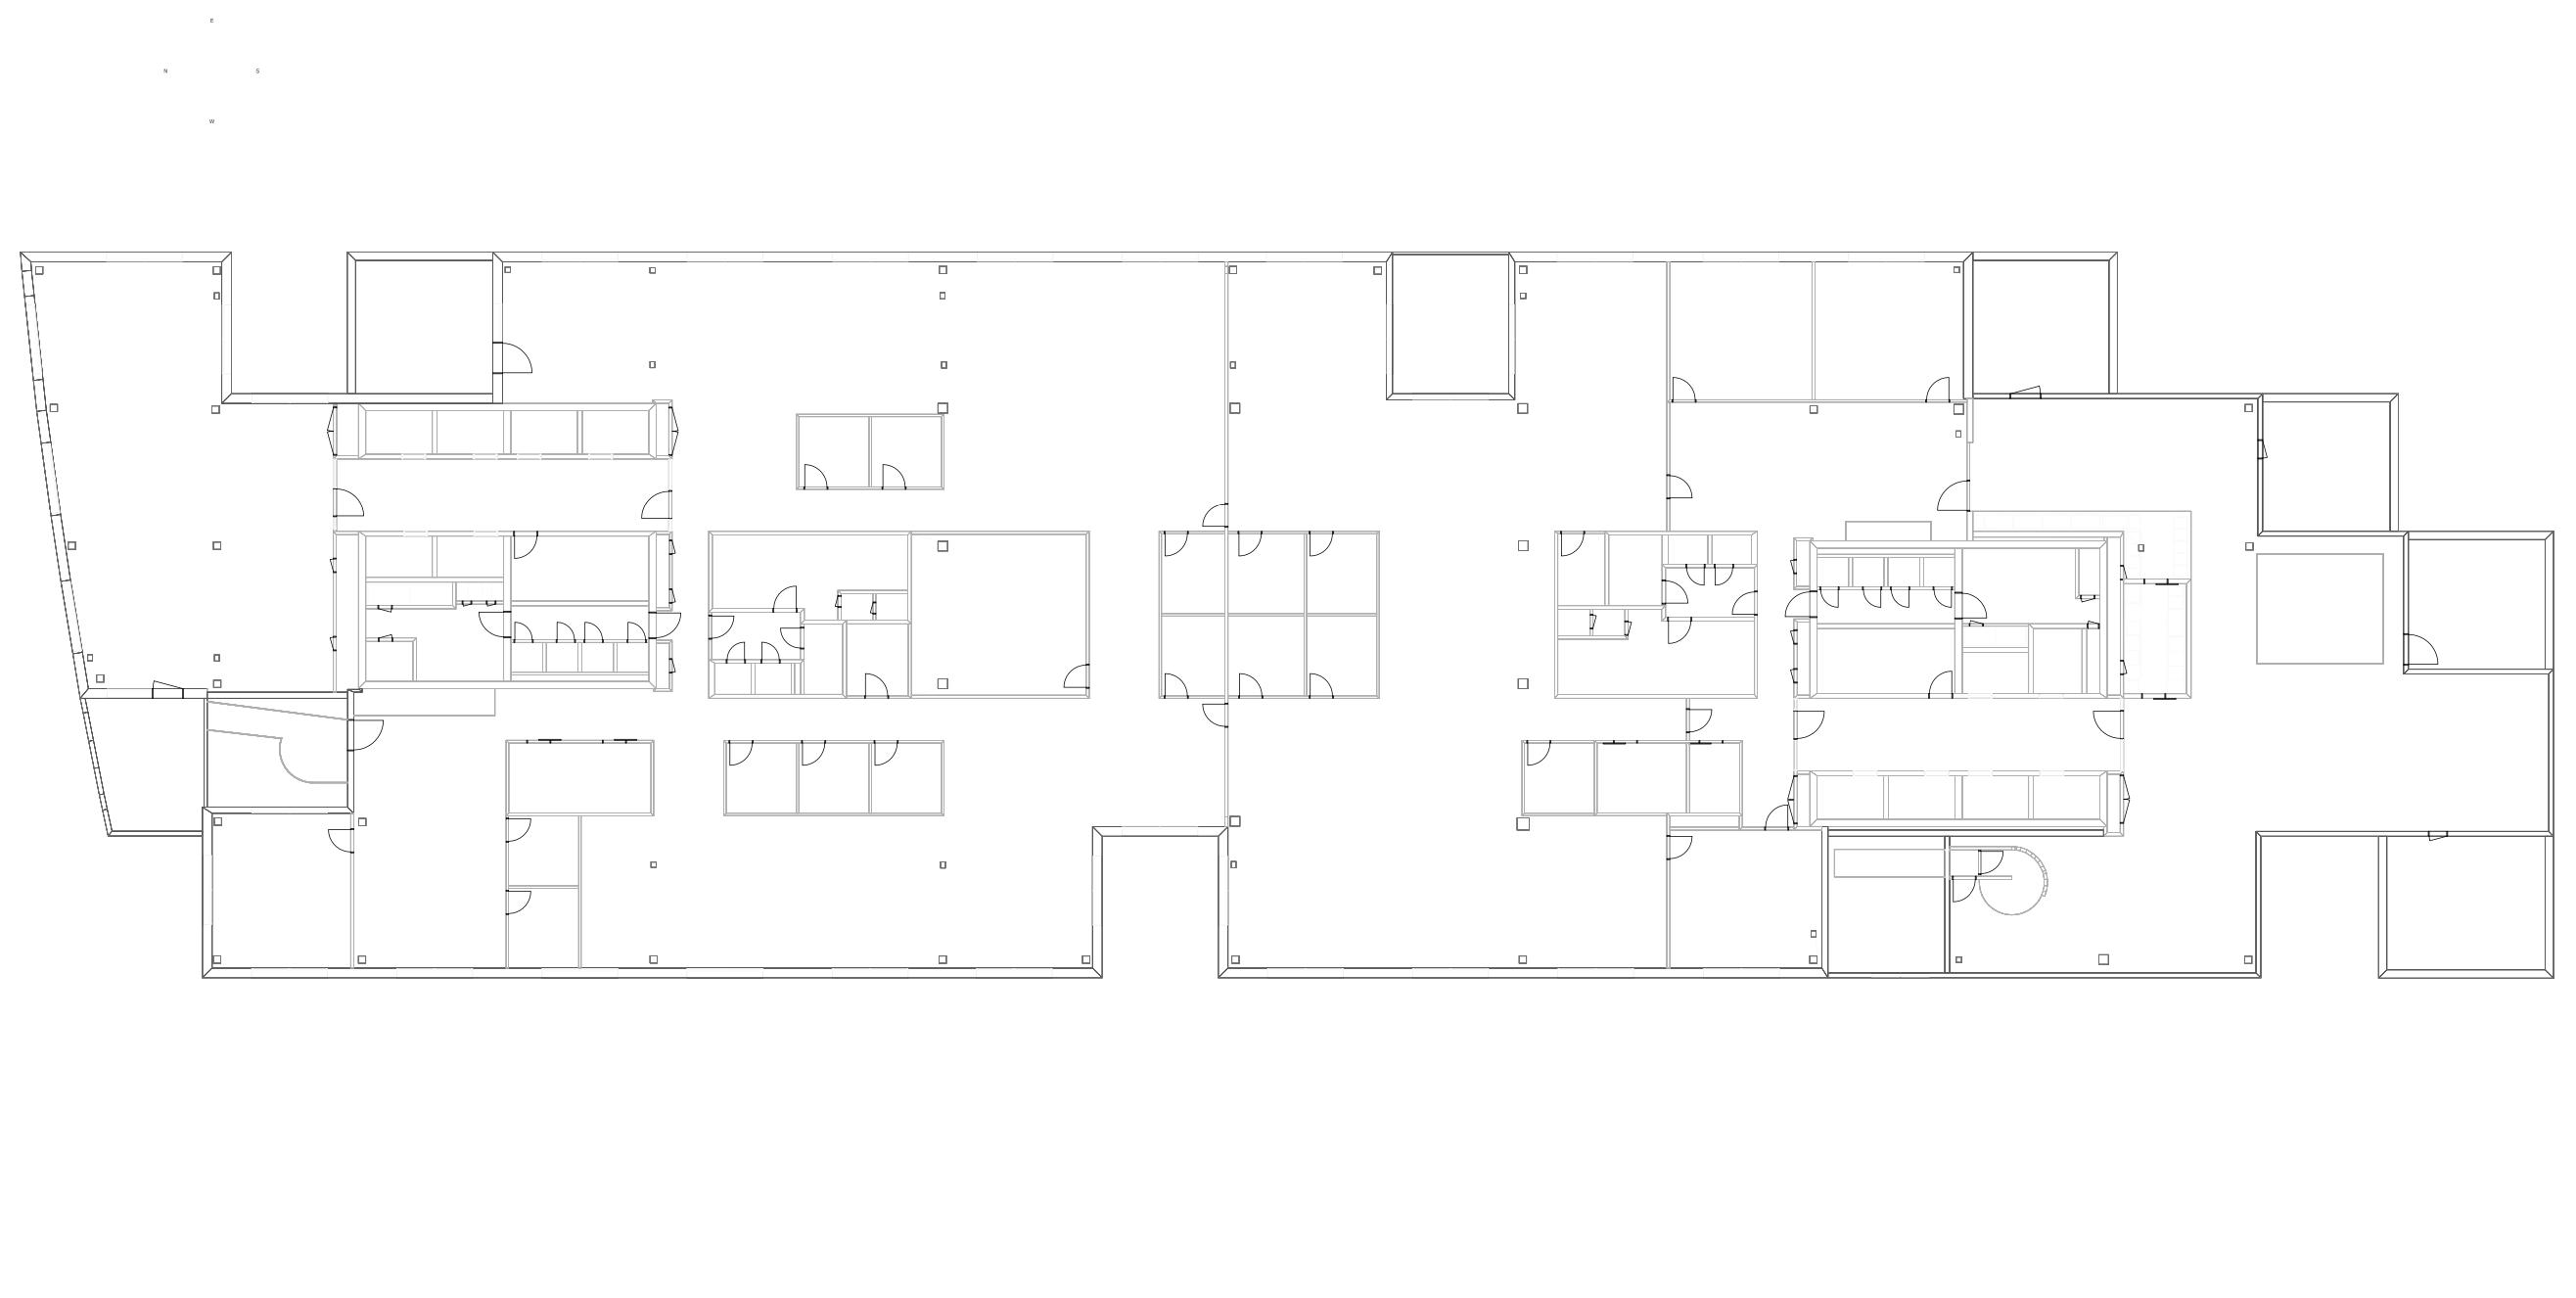room: (33, 262, 333, 690), (1669, 402, 1966, 531), (912, 535, 1087, 695), (338, 457, 670, 530), (1798, 699, 2119, 770), (212, 813, 351, 969), (2386, 836, 2546, 970), (1669, 829, 1822, 967), (1815, 262, 1962, 399), (1669, 260, 1812, 399), (356, 260, 491, 394), (1974, 260, 2109, 392), (2409, 540, 2545, 669), (2265, 401, 2391, 530), (1393, 253, 1509, 392), (1828, 836, 1944, 972), (86, 699, 203, 831), (208, 697, 346, 806), (2257, 553, 2384, 662), (1964, 548, 2100, 623), (510, 743, 650, 813), (511, 535, 649, 601), (1818, 627, 1956, 694), (1593, 719, 1631, 932), (2124, 584, 2187, 694), (1598, 742, 1686, 813), (1228, 533, 1304, 614), (1228, 616, 1304, 695), (1307, 533, 1378, 614), (1307, 616, 1377, 695), (510, 889, 579, 967), (797, 742, 869, 815), (870, 416, 941, 488), (1161, 533, 1224, 614), (726, 742, 797, 813), (797, 416, 869, 487), (1524, 742, 1595, 813), (1161, 616, 1224, 695), (510, 816, 579, 886), (872, 743, 941, 813), (511, 606, 649, 639), (1817, 589, 1954, 623), (847, 623, 908, 695), (1689, 743, 1740, 813), (1610, 535, 1661, 604), (1557, 533, 1605, 604), (366, 535, 432, 576), (804, 623, 842, 694), (437, 536, 503, 576)
